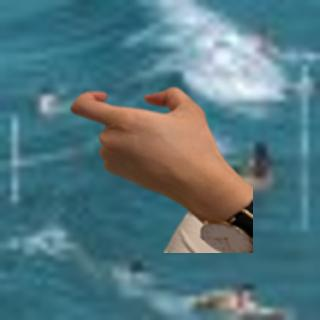HATE: (64, 79, 230, 205)
